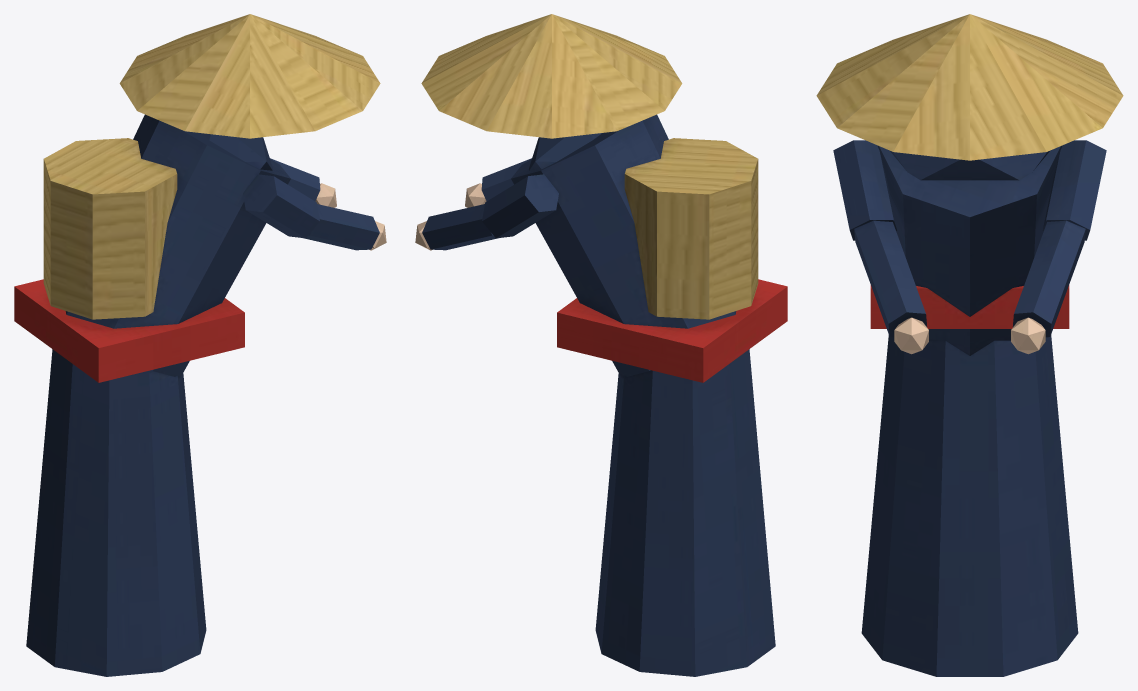
The model's file is teplockare_tex.glb.
3 views of the same model, side by side, from view 1: azimuth 30°, elevation 25°; view 2: azimuth 150°, elevation 25°; view 3: azimuth 270°, elevation 25° (orthographic). The views are drawn at different scales.
Parts seen in each view (by area): view 1: teplockare; view 2: teplockare; view 3: teplockare.
Boxes of the visible parts, x1,y1,x2,y2 form: teplockare: (14,14,386,676); teplockare: (415,14,787,676); teplockare: (816,14,1123,676).
Bounding box in the file's own units: 0.9707 × 1.71 × 0.68.
Materials: 6 (6 with a texture image).
